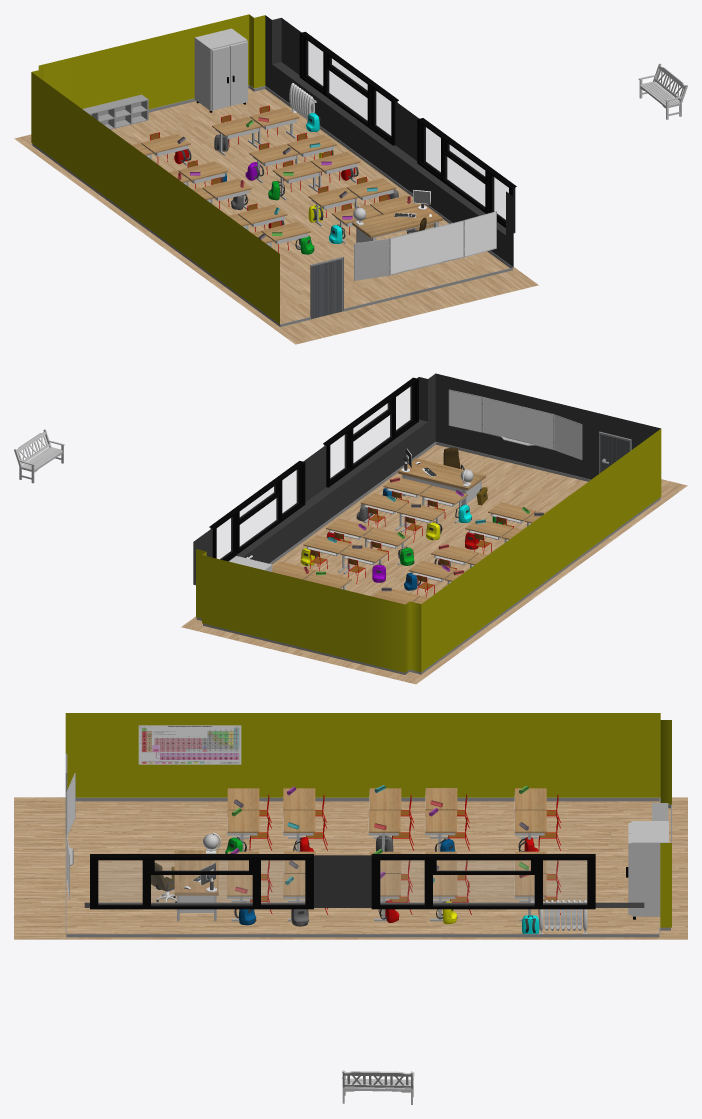
Rendered from Salle_V6.fbx.
3 views of the same model, one above another, from view 1: azimuth 30°, elevation 25°; view 2: azimuth 150°, elevation 25°; view 3: azimuth 270°, elevation 25° (orthographic). The views are drawn at different scales.
Visible parts, largest first — view 1: Mur, Parquet1, Tableau1, Armoire, Bureau_Prof, Meuble, Banc1, Bureau6, Bureau8, Bureau1, Bureau3, Bureau9 (+10 smaller); view 2: Mur, Parquet1, Tableau1, Bureau_Prof, Banc1, Bureau4, Bureau9, Bureau2, Bureau7, Bureau10, Bureau8, Bureau12 (+5 smaller); view 3: Mur, Parquet1, Tableau_Ele, Armoire, Bureau_Prof, Banc1, Chauffage, Bureau14, Bureau15, Bureau12, Bureau11, Bureau13 (+11 smaller).
Boxes of the visible parts, x1=… form: Mur: x1=31, y1=14, x2=516, y2=326; Parquet1: x1=14, y1=88, x2=538, y2=344; Tableau1: x1=354, y1=211, x2=496, y2=280; Armoire: x1=194, y1=28, x2=247, y2=112; Bureau_Prof: x1=352, y1=204, x2=442, y2=243; Meuble: x1=82, y1=94, x2=148, y2=129; Banc1: x1=638, y1=63, x2=687, y2=119; Bureau6: x1=212, y1=116, x2=261, y2=155; Bureau8: x1=272, y1=161, x2=322, y2=200; Bureau1: x1=250, y1=107, x2=299, y2=144; Bureau3: x1=310, y1=152, x2=360, y2=187; Bureau9: x1=308, y1=187, x2=357, y2=226; Mur: x1=193, y1=373, x2=661, y2=674; Parquet1: x1=181, y1=444, x2=687, y2=684; Tableau1: x1=448, y1=389, x2=582, y2=459; Bureau_Prof: x1=398, y1=458, x2=485, y2=504; Banc1: x1=14, y1=429, x2=64, y2=483; Bureau4: x1=360, y1=493, x2=408, y2=530; Bureau9: x1=397, y1=502, x2=444, y2=534; Bureau2: x1=303, y1=535, x2=351, y2=572; Bureau7: x1=340, y1=544, x2=387, y2=573; Bureau10: x1=420, y1=485, x2=467, y2=523; Bureau8: x1=362, y1=527, x2=410, y2=564; Bureau12: x1=408, y1=561, x2=456, y2=590; Mur: x1=65, y1=713, x2=671, y2=937; Parquet1: x1=14, y1=797, x2=687, y2=939; Tableau_Ele: x1=138, y1=725, x2=241, y2=764; Armoire: x1=626, y1=821, x2=668, y2=919; Bureau_Prof: x1=174, y1=850, x2=218, y2=920; Banc1: x1=342, y1=1070, x2=414, y2=1104; Chauffage: x1=530, y1=900, x2=587, y2=933; Bureau14: x1=283, y1=810, x2=315, y2=851; Bureau15: x1=227, y1=810, x2=259, y2=851; Bureau12: x1=425, y1=810, x2=456, y2=851; Bureau11: x1=514, y1=810, x2=546, y2=839; Bureau13: x1=368, y1=810, x2=400, y2=851.
Size of what is drawn, in the model's own units: 2172 by 303 by 1992.
